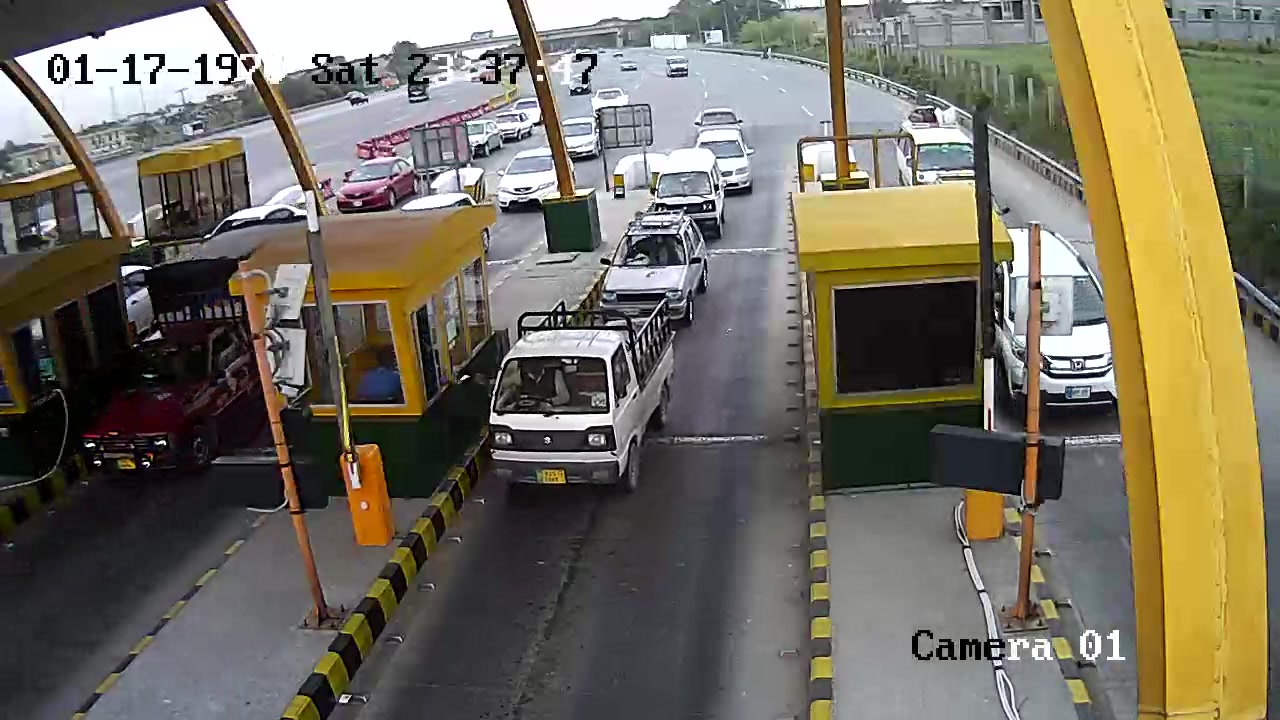F1: (486, 295, 684, 496), (590, 205, 723, 332)
